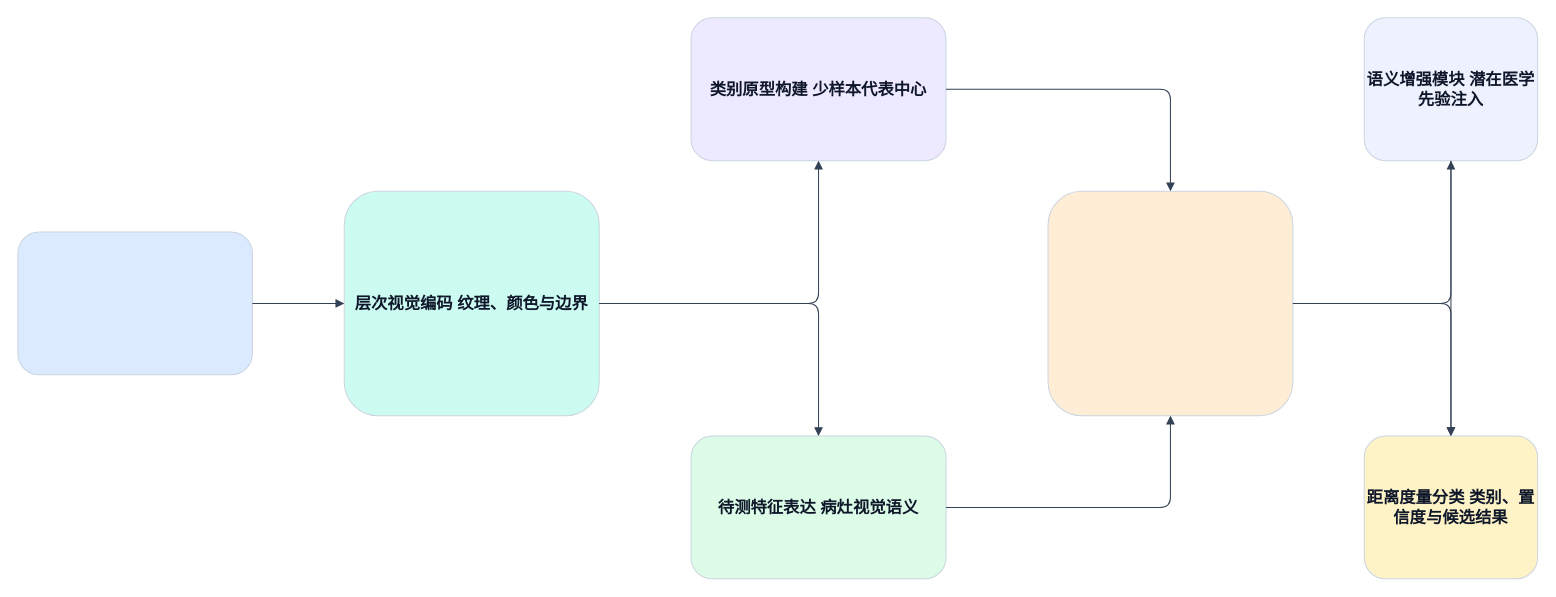
Image size: 1556x597. Some labels were removed from this diagram. The shapes that lost their labels are listed below. From the top down, each one's centre as x and y in pixels, then its label:
At [134,303]: "皮肤图像输入 支持样本与待测图像".
At [1170,303]: "原型偏移校正 分布对齐与伪标注".
